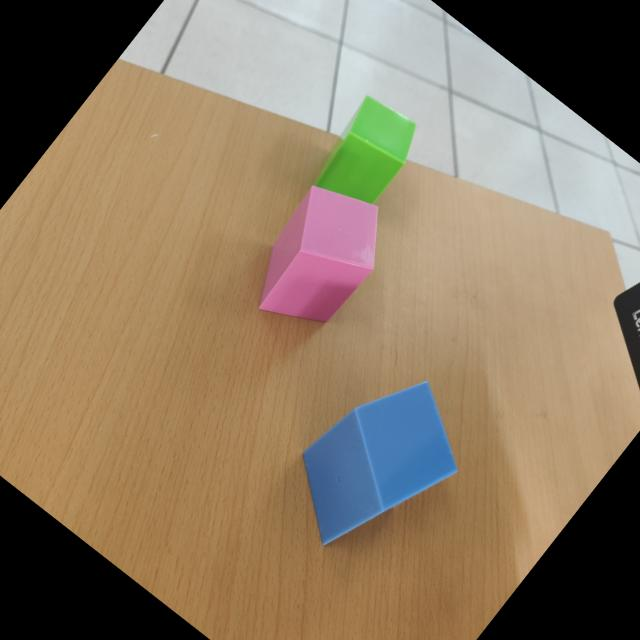blue: (299, 382, 460, 548)
green: (313, 95, 416, 206)
pink: (257, 184, 376, 322)
